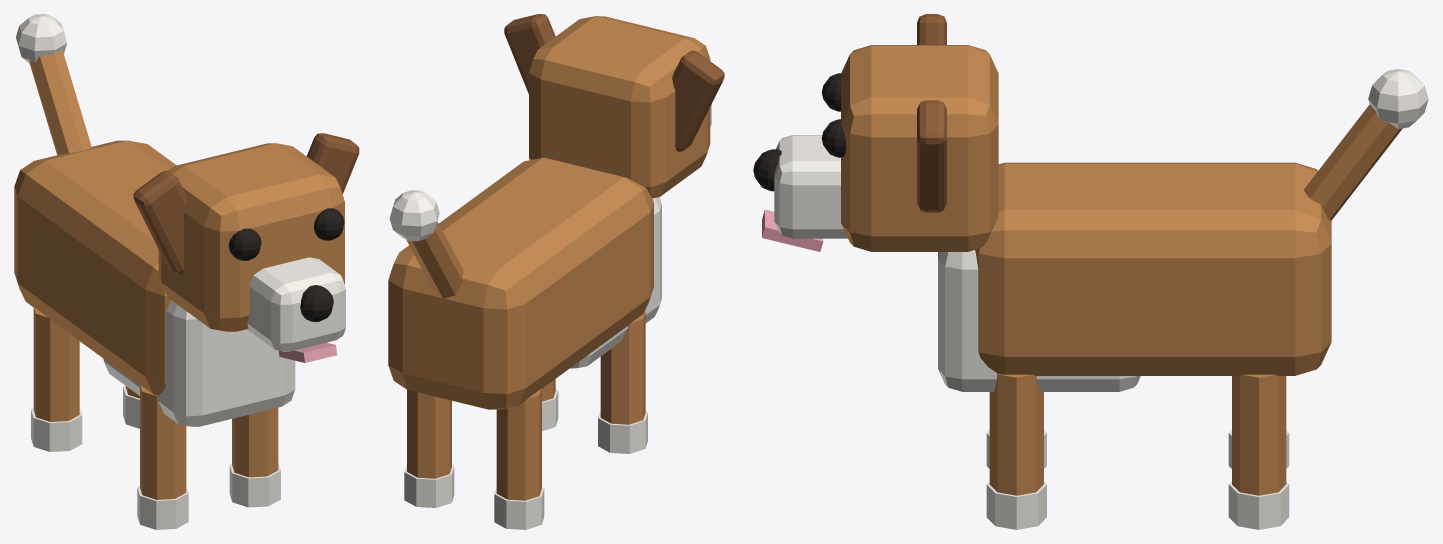
The model's file is dog.glb.
3 views of the same model, side by side, from view 1: azimuth 30°, elevation 25°; view 2: azimuth 150°, elevation 25°; view 3: azimuth 270°, elevation 25° (orthographic). The views are drawn at different scales.
Visible parts, largest first — view 1: Dog, LegBL, LegFL, Tail, LegFR, EarL, EarR, LegBR; view 2: Dog, LegBL, LegFL, LegBR, Tail, EarL, EarR, LegFR; view 3: Dog, LegBR, LegFR, Tail, EarR, EarL.
Part boxes in pixels (x1,y1,x2,y2): Dog: [14, 140, 345, 426]; LegBL: [31, 307, 82, 451]; LegFL: [137, 385, 188, 529]; Tail: [16, 14, 91, 154]; LegFR: [229, 407, 280, 507]; EarL: [133, 171, 187, 274]; EarR: [306, 133, 359, 193]; LegBR: [123, 385, 139, 428]; Dog: [388, 16, 711, 409]; LegBL: [494, 388, 544, 529]; LegFL: [598, 311, 647, 453]; LegBR: [404, 390, 454, 507]; Tail: [389, 190, 463, 298]; EarL: [672, 50, 724, 151]; EarR: [504, 14, 555, 93]; LegFR: [542, 379, 558, 431]; Dog: [753, 45, 1331, 391]; LegBR: [1228, 374, 1289, 529]; LegFR: [986, 374, 1046, 529]; Tail: [1304, 69, 1428, 220]; EarR: [917, 100, 946, 212]; EarL: [917, 14, 946, 44].
Size of the model in its own units: 0.4744 by 0.7888 by 1.12.
